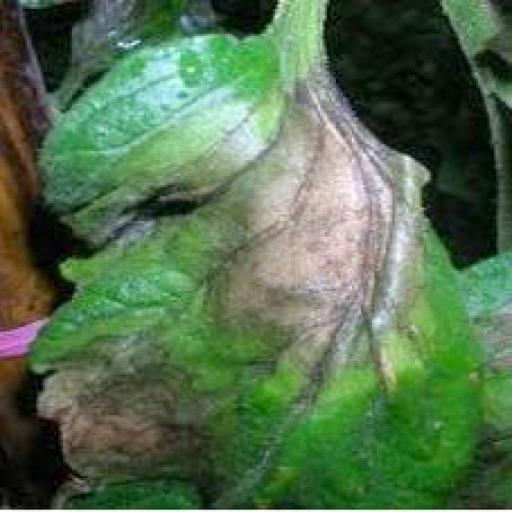Late Blight: (27, 25, 487, 507)
